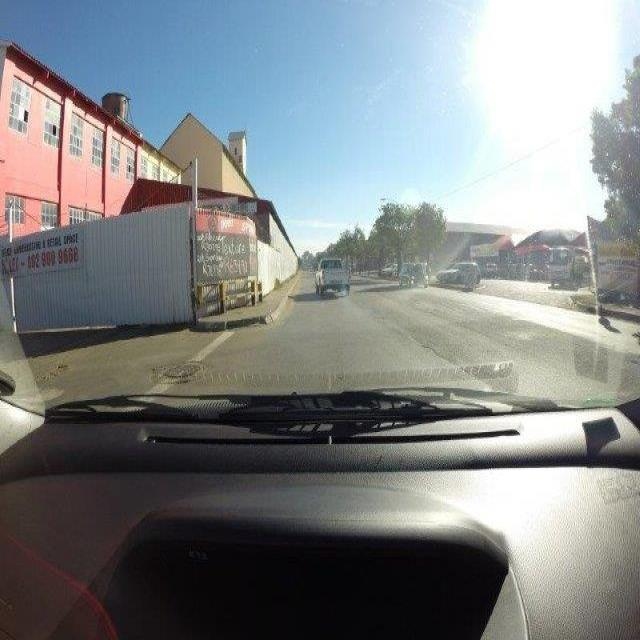jalan retak: (146, 358, 218, 387), (416, 334, 444, 361)
lubang: (42, 360, 66, 381)
